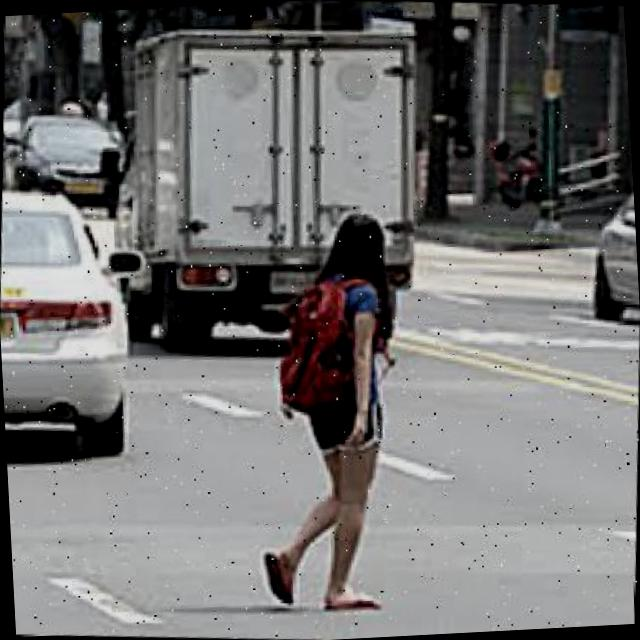Person: (239, 204, 414, 619)
